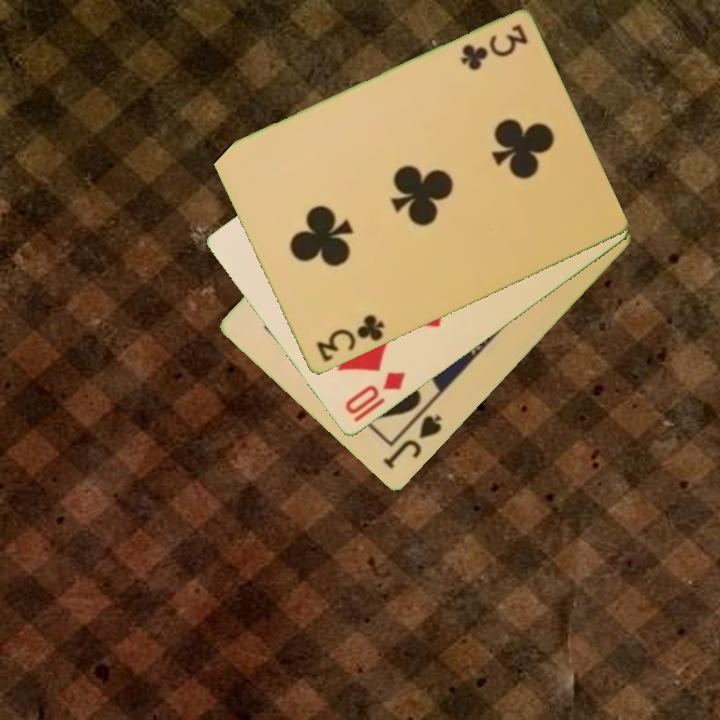10d: (341, 368, 409, 418)
3c: (312, 311, 388, 366), (456, 21, 531, 73)
Js: (379, 412, 445, 473)
